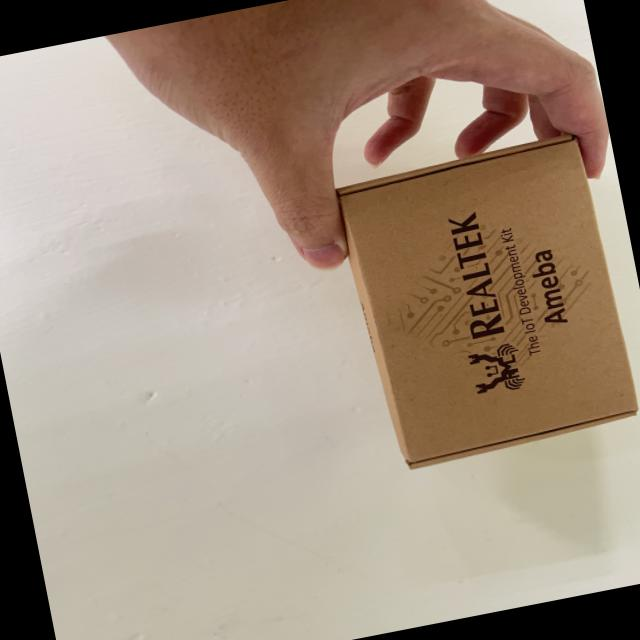box: (321, 119, 640, 492)
